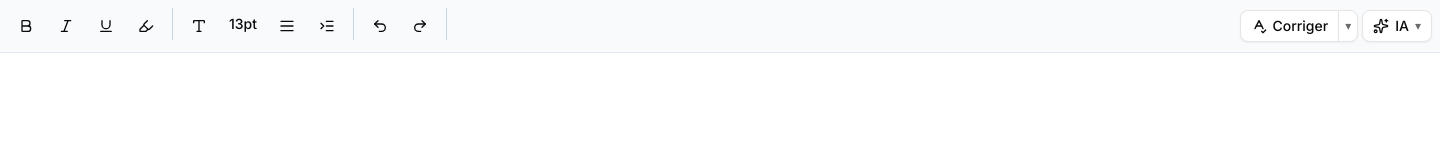
FormattingToolbar › Chapter correction › reports the punctuation switch as off when the project turned it off
Click the button named "Options de correction" at (1348, 26), box x1=1338 y1=10 x2=1358 y2=42
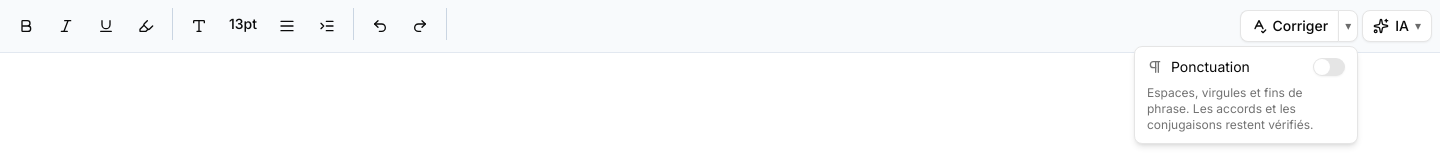
Check: the switch named "Ponctuation" is not checked, box x1=1313 y1=58 x2=1345 y2=76
